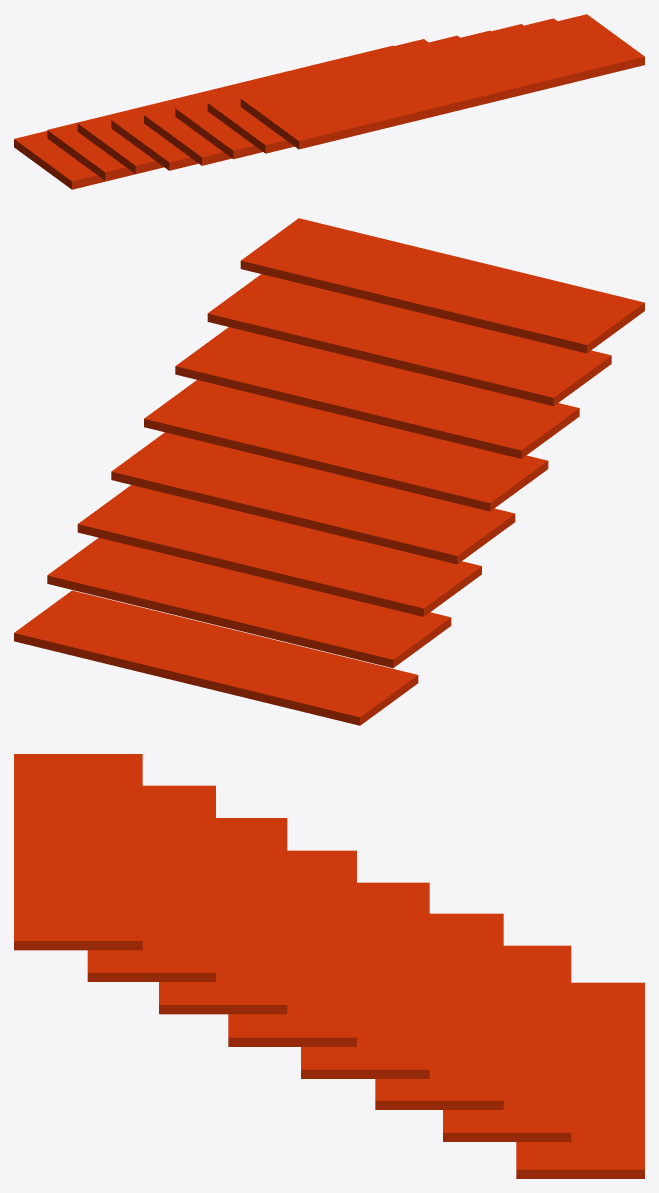
The model's file is Stairs.fbx.
3 views of the same model, one above another, from view 1: azimuth 30°, elevation 25°; view 2: azimuth 150°, elevation 25°; view 3: azimuth 270°, elevation 25° (orthographic). The views are drawn at different scales.
Visible parts, largest first — view 1: Stairs; view 2: Stairs; view 3: Stairs.
Boxes of the visible parts, box(x1,y1,x2,y2) form: Stairs: box(14, 14, 644, 189); Stairs: box(14, 218, 644, 725); Stairs: box(14, 754, 644, 1178).
Bounding box in the file's own units: 233 × 138 × 332.
